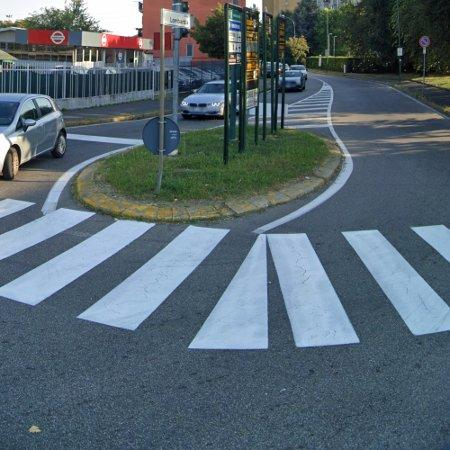crosswalks: (0, 195, 450, 351)
